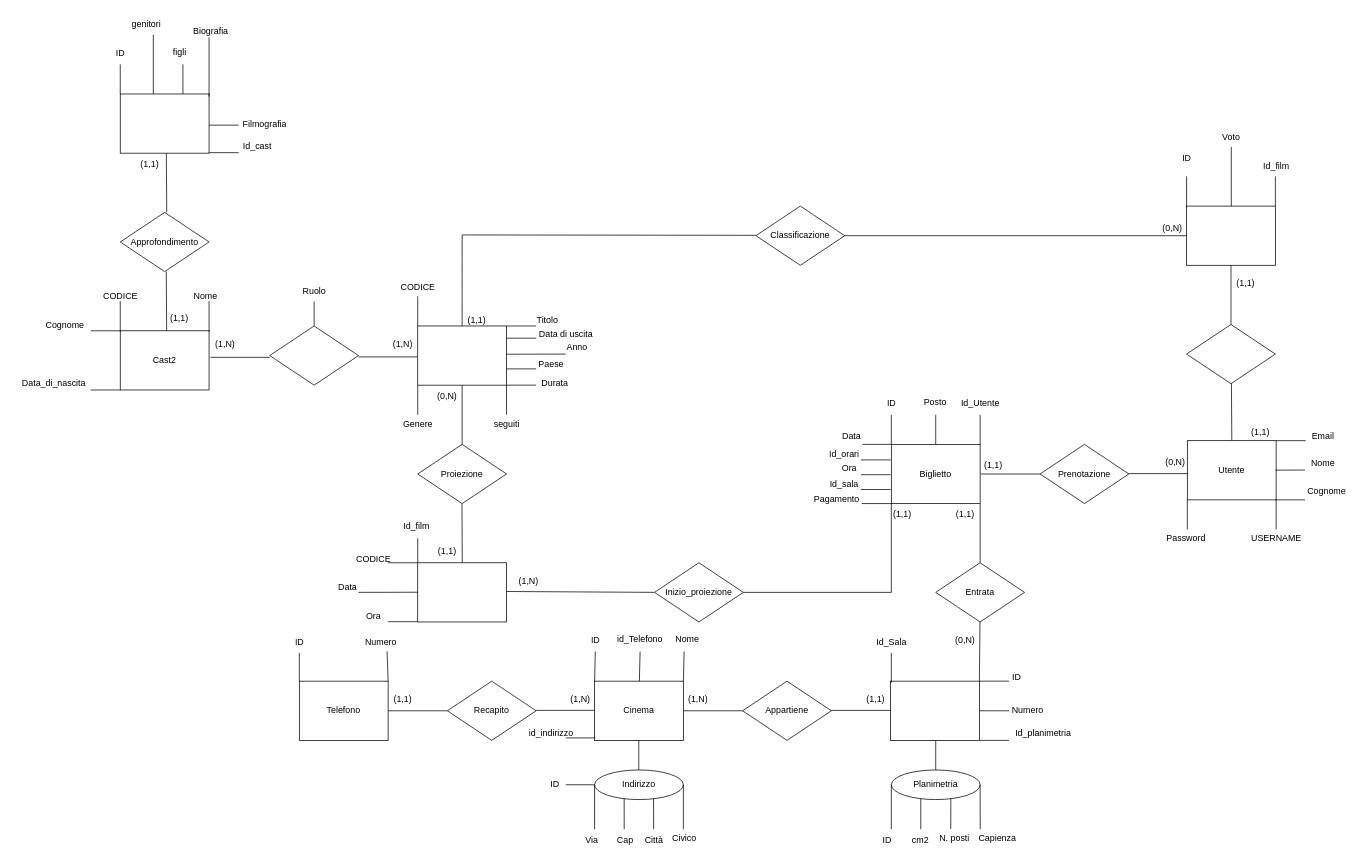
The diagram is 1368 pixels wide and 864 high, and some of its shapes have lost their labels. The shapes that lost their labels are listed below. From the top down, each one's box as (x1, y1, x2, y2) in pixels, then its label:
(120, 93, 209, 153): Vita
(1186, 205, 1275, 265): Classifica
(269, 325, 359, 385): Partecipazione
(417, 325, 507, 385): Film
(1186, 324, 1275, 384): Valutazione
(417, 562, 507, 622): Orari
(890, 680, 979, 740): Sala
